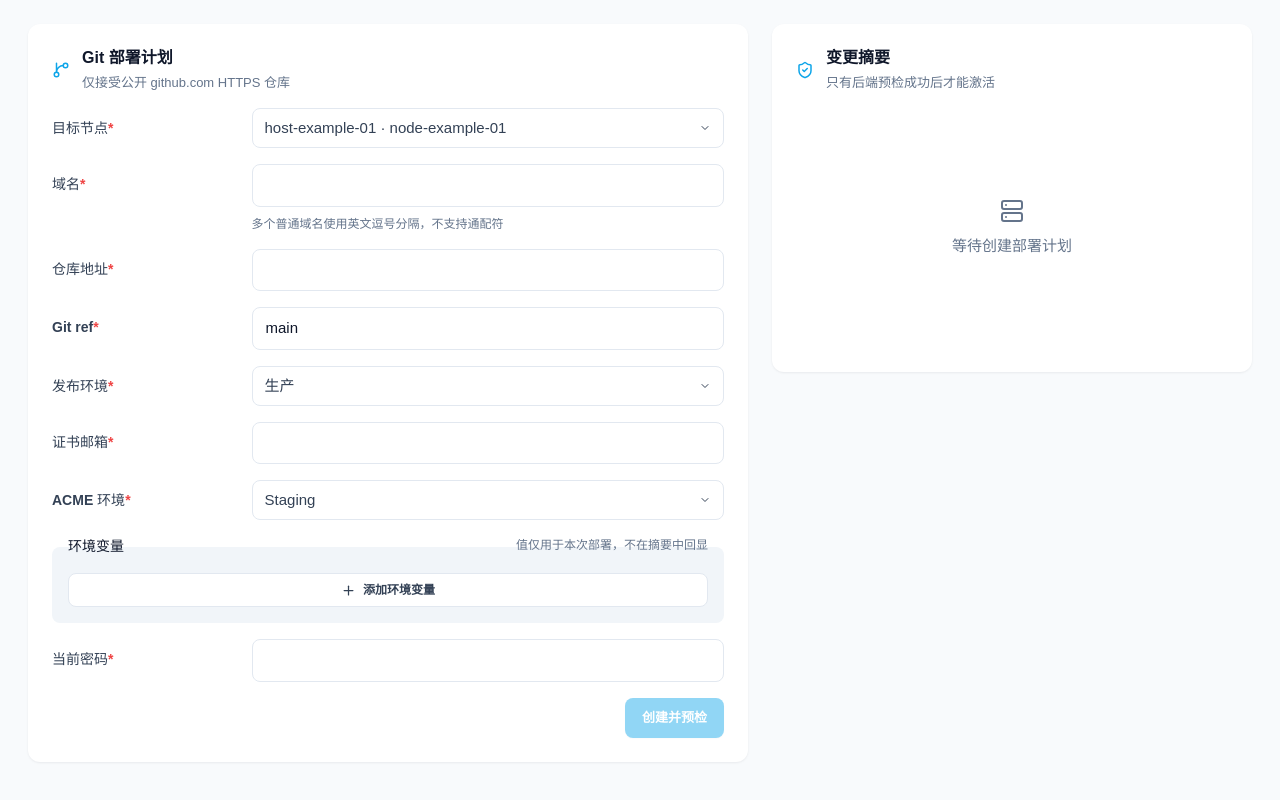
Test: site management UI › keeps a staging plan on the real preparation path without exposing production activation
The width and height of the screenshot is (1280, 800).
In the field labelled "域名": (488, 186) 252,164 -> 724,207, type "app.example.com"
In the field labelled "仓库地址": (488, 270) 252,249 -> 724,291, type "https://github.com/example/site.git"
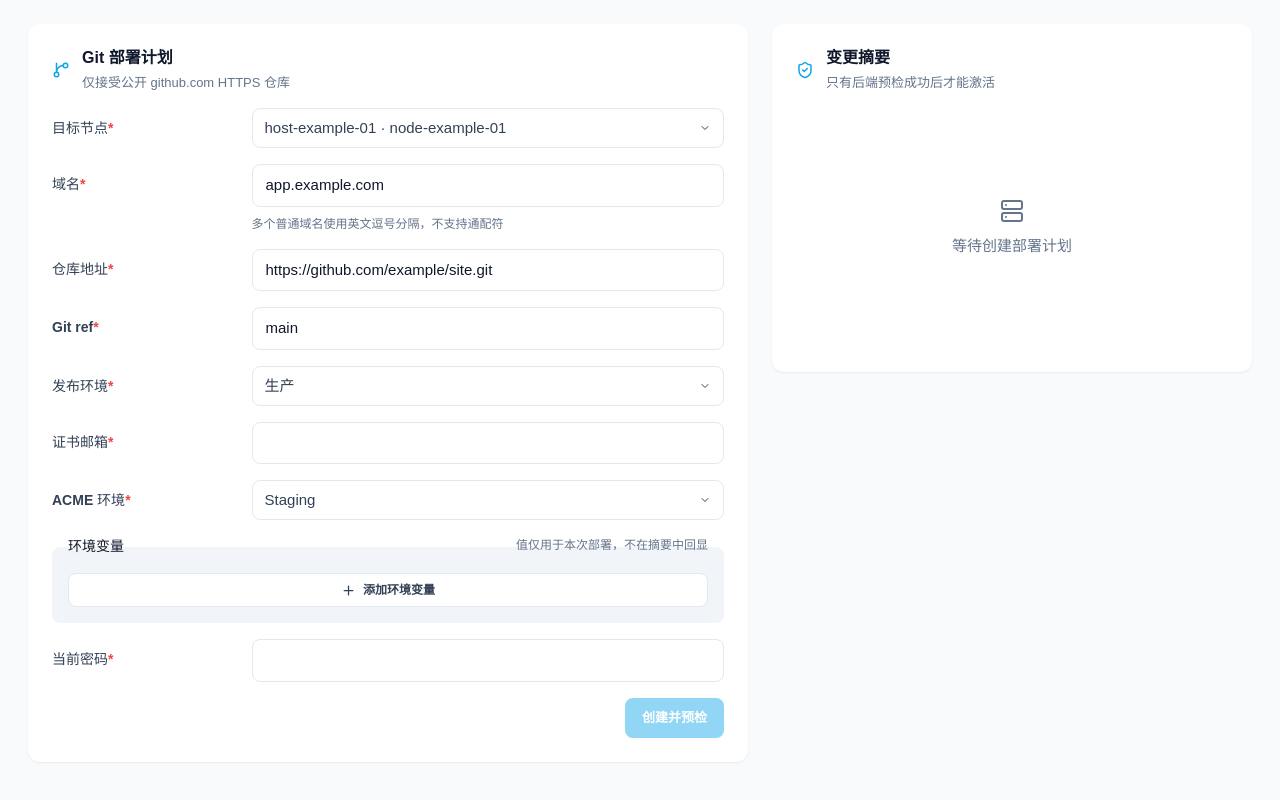
Click the dropdown named "发布环境": (280, 385) 252,366 -> 724,406
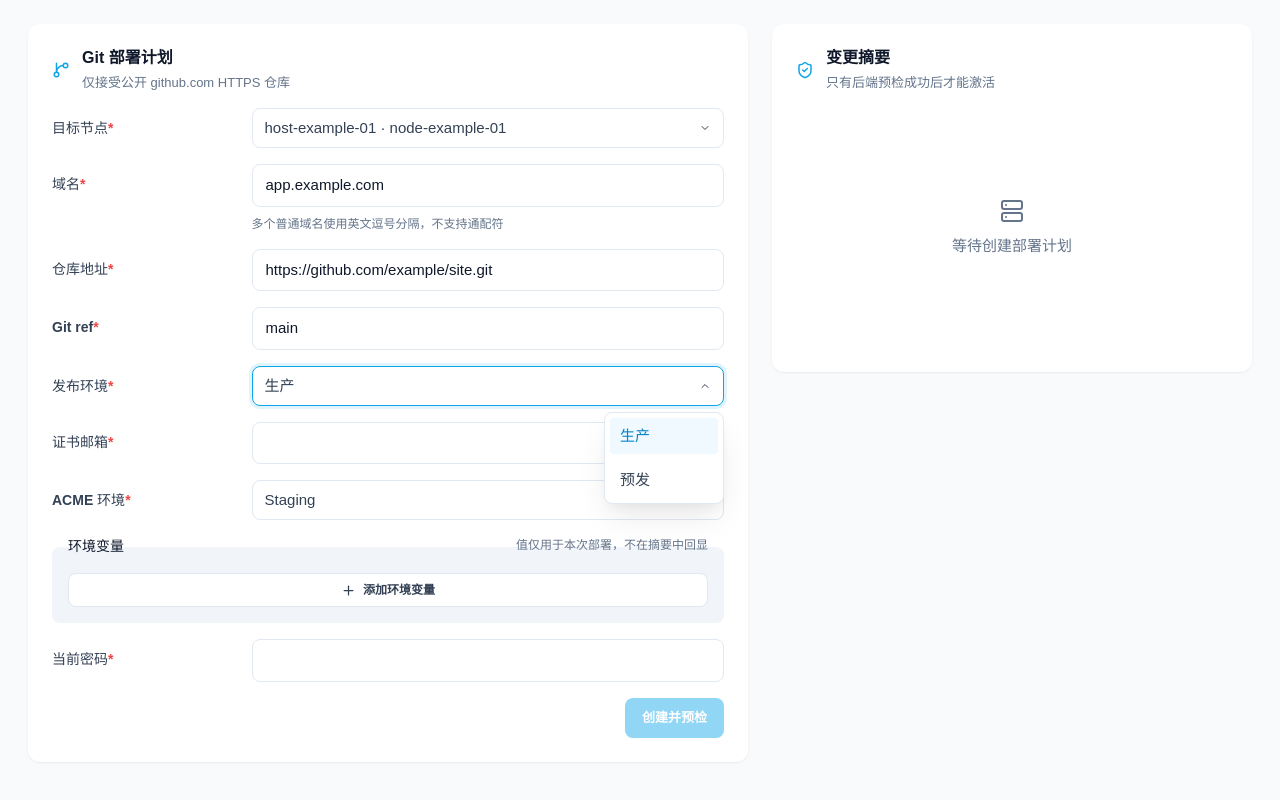
Click the option "预发": (664, 480) 610,462 -> 718,498
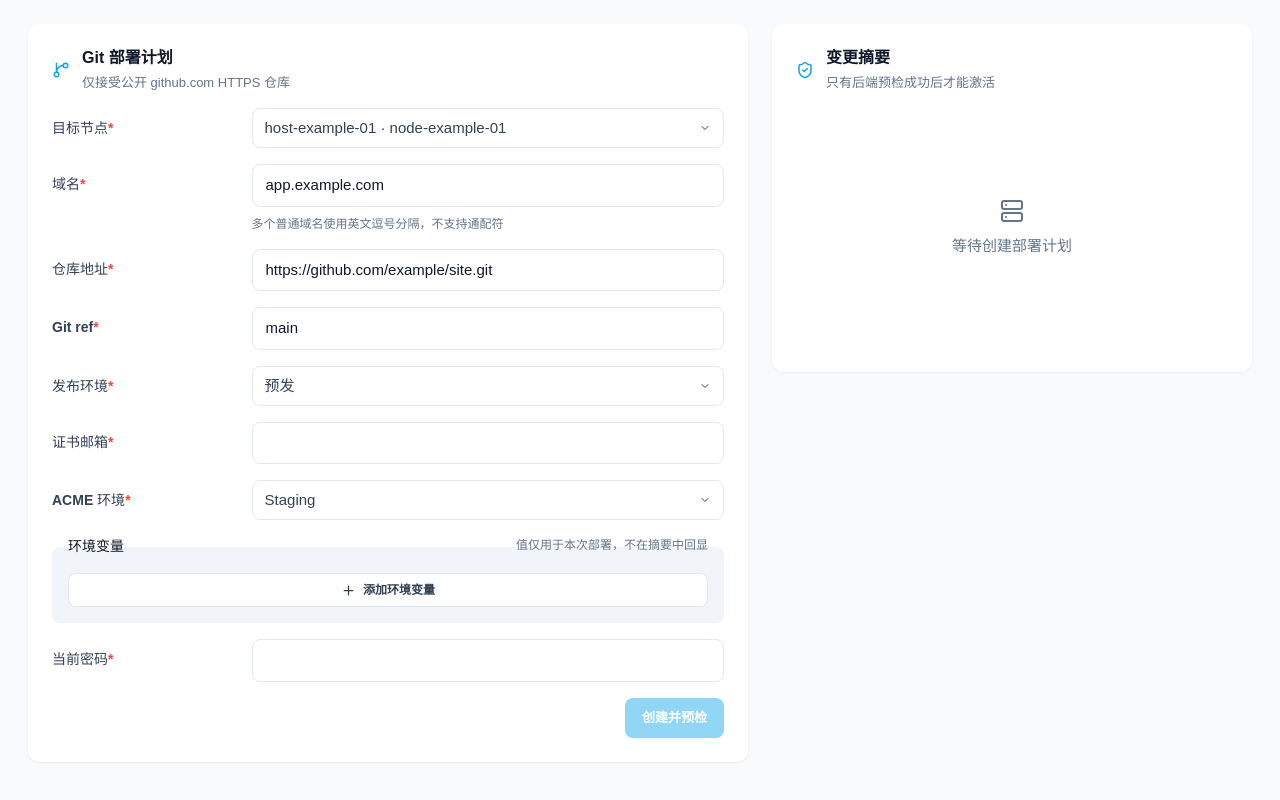
In the field labelled "证书邮箱": (488, 443) 252,422 -> 724,464, type "ops@example.com"
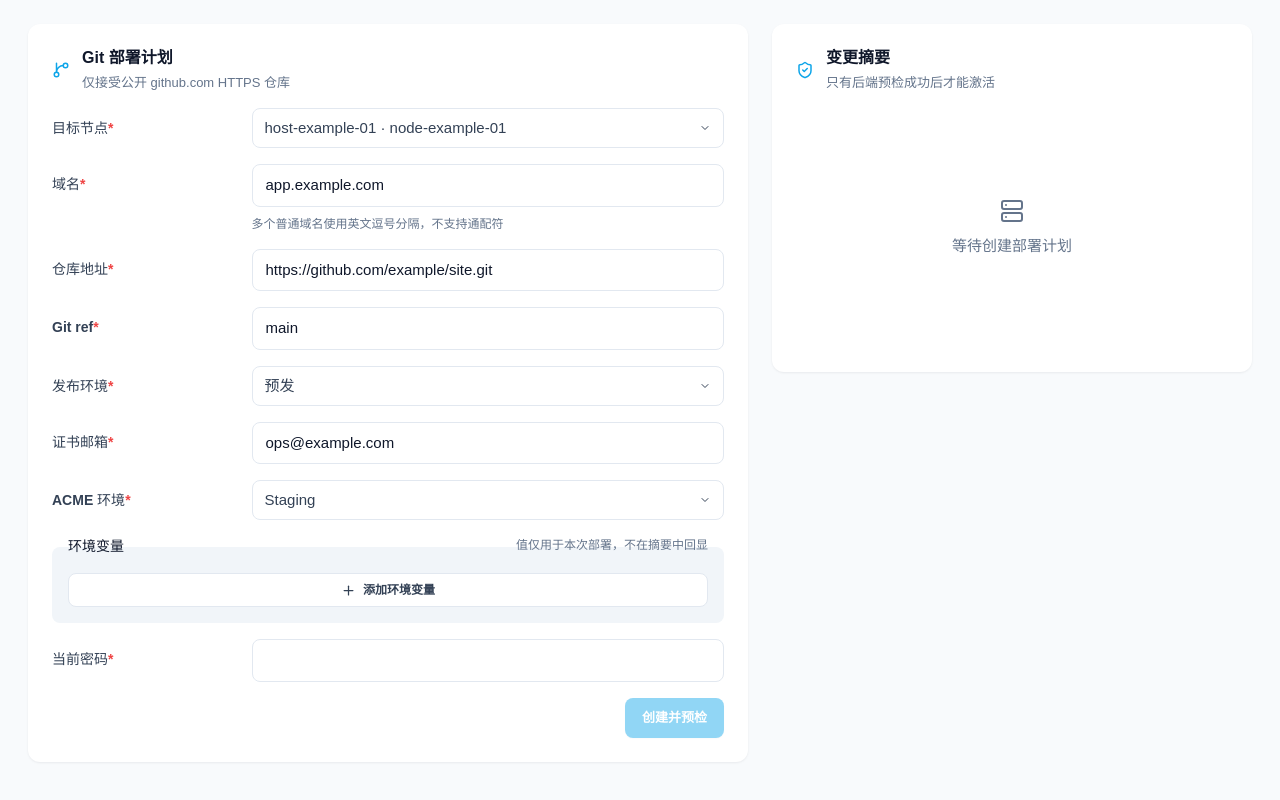
In the password field labelled "当前密码": (488, 661) 252,639 -> 724,682, type "correct-password"
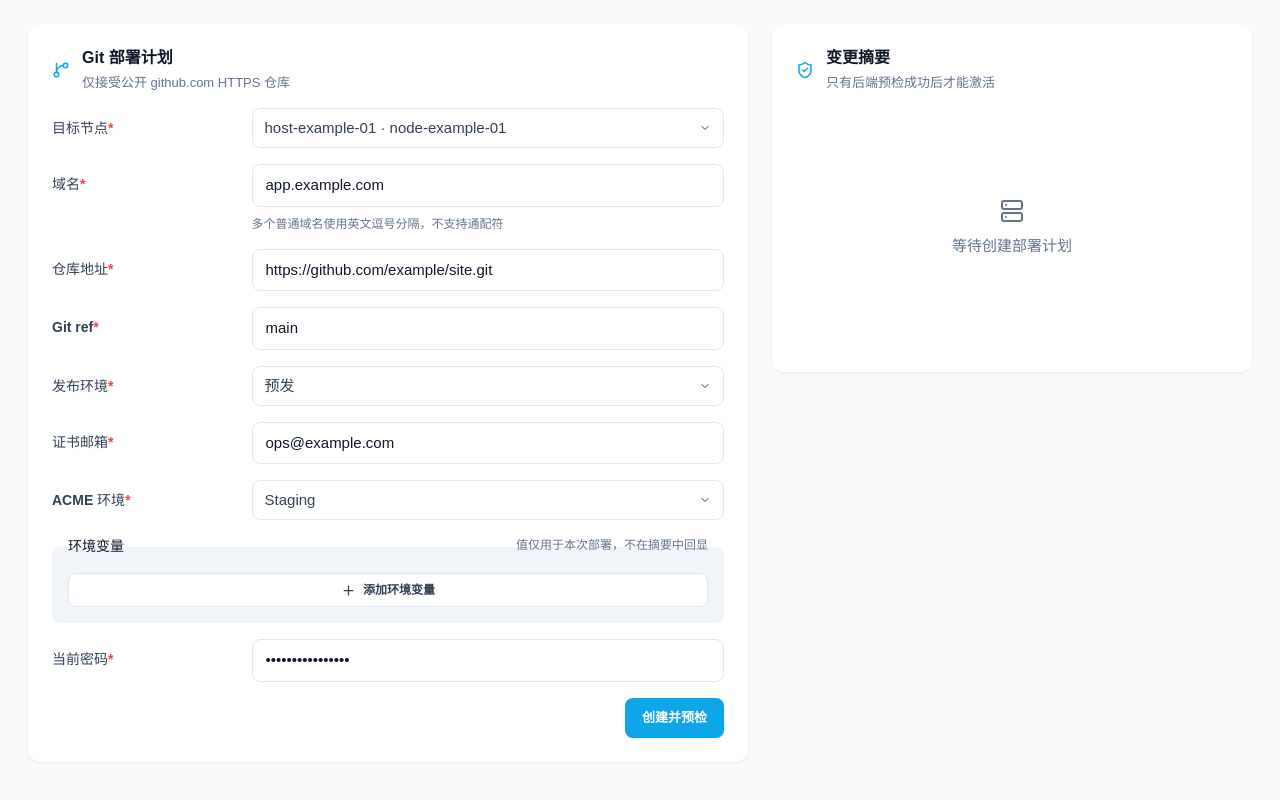
Click the button "创建并预检": (674, 718) 625,698 -> 724,738
Wait 10000 ms
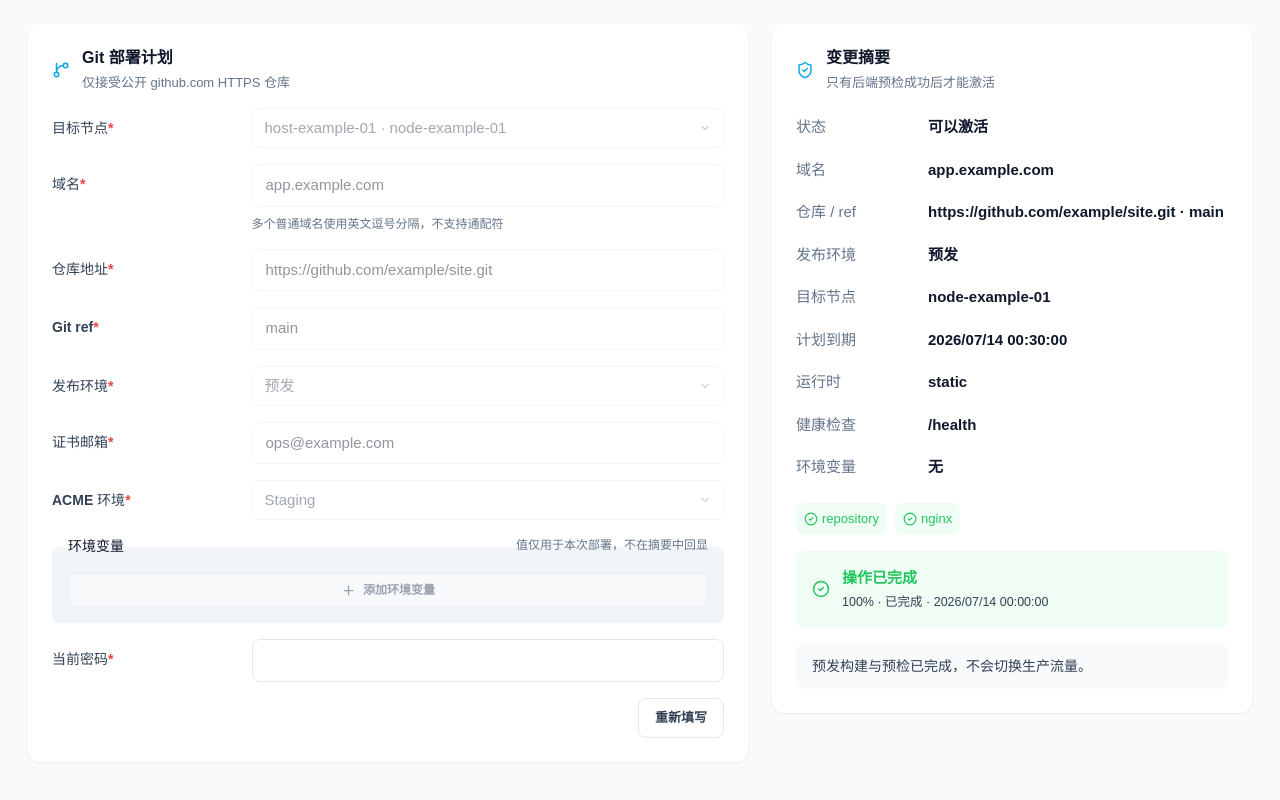
Now the text "预发构建与预检已完成，不会切换生产流量。" is shown, box 796,644 -> 1228,689
